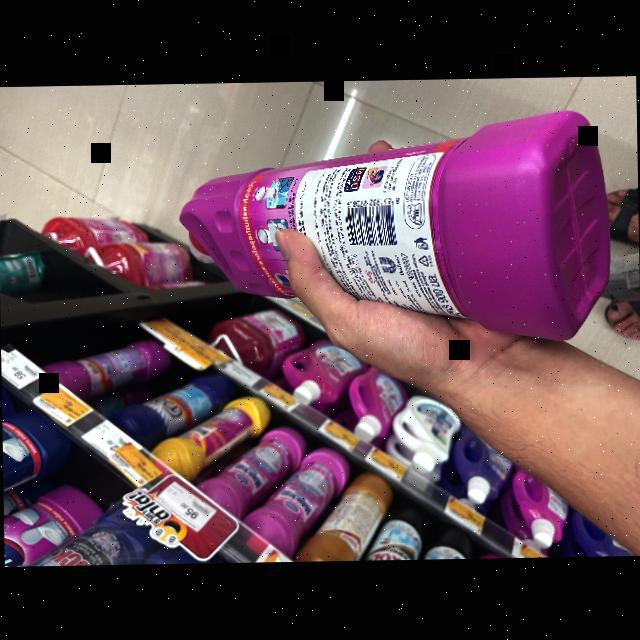chemical_plastic_bottle: (173, 104, 618, 358)
